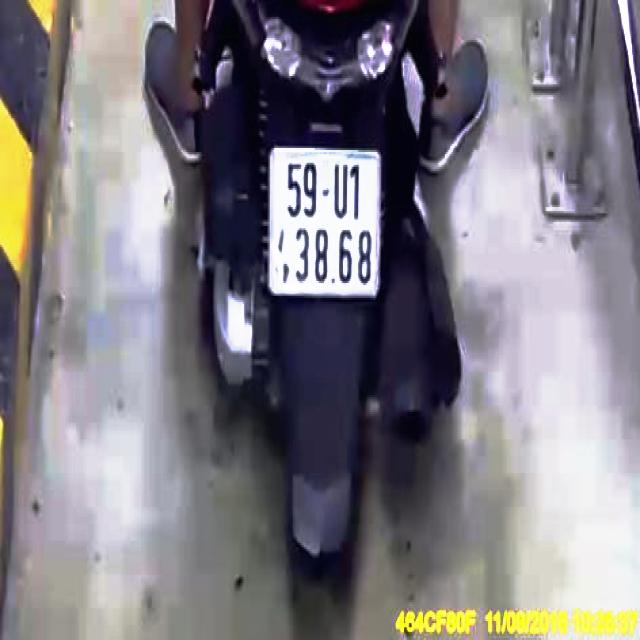license_plate: (270, 151, 382, 295)
